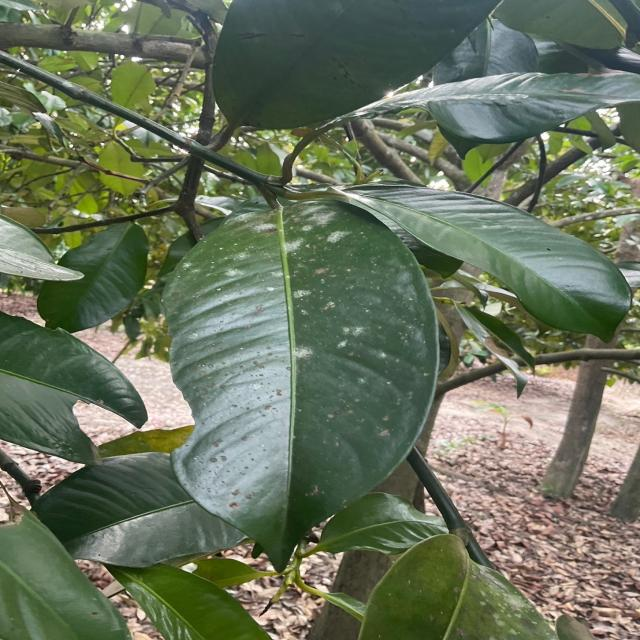Leaf Spot: (234, 198, 432, 364)
